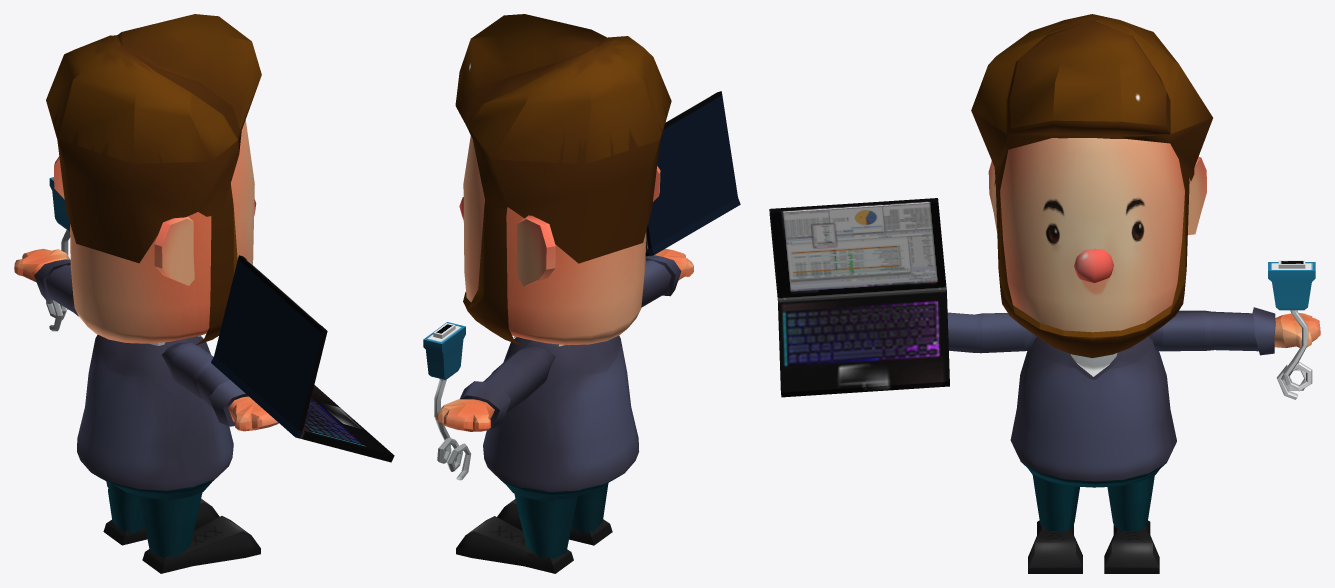
Rendered from Char_System_SystemAdministrator.fbx.
3 views of the same model, side by side, from view 1: azimuth 30°, elevation 25°; view 2: azimuth 150°, elevation 25°; view 3: azimuth 270°, elevation 25° (orthographic).
Visible parts, largest first — view 1: pSphere1_2, Base_Male_Body_1, Laptop, polySurface5_3, Base_Male_Leg1_1, polySurface43_1, polySurface5_7, polySurface33_1, polySurface3_1, Base_Male_Leg_1, plug; view 2: pSphere1_2, Base_Male_Body_1, polySurface5_3, Laptop, Base_Male_Leg_1, polySurface33_1, polySurface5_7, plug, polySurface1_1, Base_Male_Leg1_1, polySurface43_1; view 3: Laptop, polySurface5_3, pSphere1_2, Base_Male_Body_1, polySurface33_1, polySurface5_7, Base_Male_Leg_1, Base_Male_Leg1_1, plug, polySurface43_1, polySurface6_1, polySurface1_1.
Boxes of the visible parts, x1,y1,x2,y2 form: pSphere1_2: [46, 14, 261, 263]; Base_Male_Body_1: [77, 334, 233, 500]; Laptop: [211, 255, 394, 462]; polySurface5_3: [70, 120, 254, 343]; Base_Male_Leg1_1: [138, 492, 260, 573]; polySurface43_1: [162, 342, 278, 431]; polySurface5_7: [196, 184, 237, 344]; polySurface33_1: [14, 248, 78, 316]; polySurface3_1: [154, 216, 194, 285]; Base_Male_Leg_1: [103, 481, 219, 545]; plug: [46, 177, 70, 331]; pSphere1_2: [455, 14, 671, 263]; Base_Male_Body_1: [483, 335, 639, 501]; polySurface5_3: [463, 135, 646, 345]; Laptop: [645, 91, 740, 257]; Base_Male_Leg_1: [456, 493, 577, 573]; polySurface33_1: [436, 345, 555, 431]; polySurface5_7: [463, 200, 522, 345]; plug: [423, 322, 471, 480]; polySurface1_1: [516, 215, 555, 286]; Base_Male_Leg1_1: [497, 483, 612, 545]; polySurface43_1: [641, 248, 693, 307]; Laptop: [769, 198, 949, 397]; polySurface5_3: [1000, 138, 1184, 332]; pSphere1_2: [971, 14, 1212, 185]; Base_Male_Body_1: [1010, 336, 1176, 487]; polySurface33_1: [1149, 307, 1320, 355]; polySurface5_7: [995, 150, 1189, 358]; Base_Male_Leg_1: [1104, 475, 1159, 573]; Base_Male_Leg1_1: [1028, 475, 1082, 573]; plug: [1268, 260, 1315, 399]; polySurface43_1: [947, 312, 1036, 353]; polySurface6_1: [1074, 248, 1113, 282]; polySurface1_1: [1188, 157, 1206, 234].
Size of the model in its own units: 3.41 by 8.34 by 8.28.
2 materials, 2 textured.
